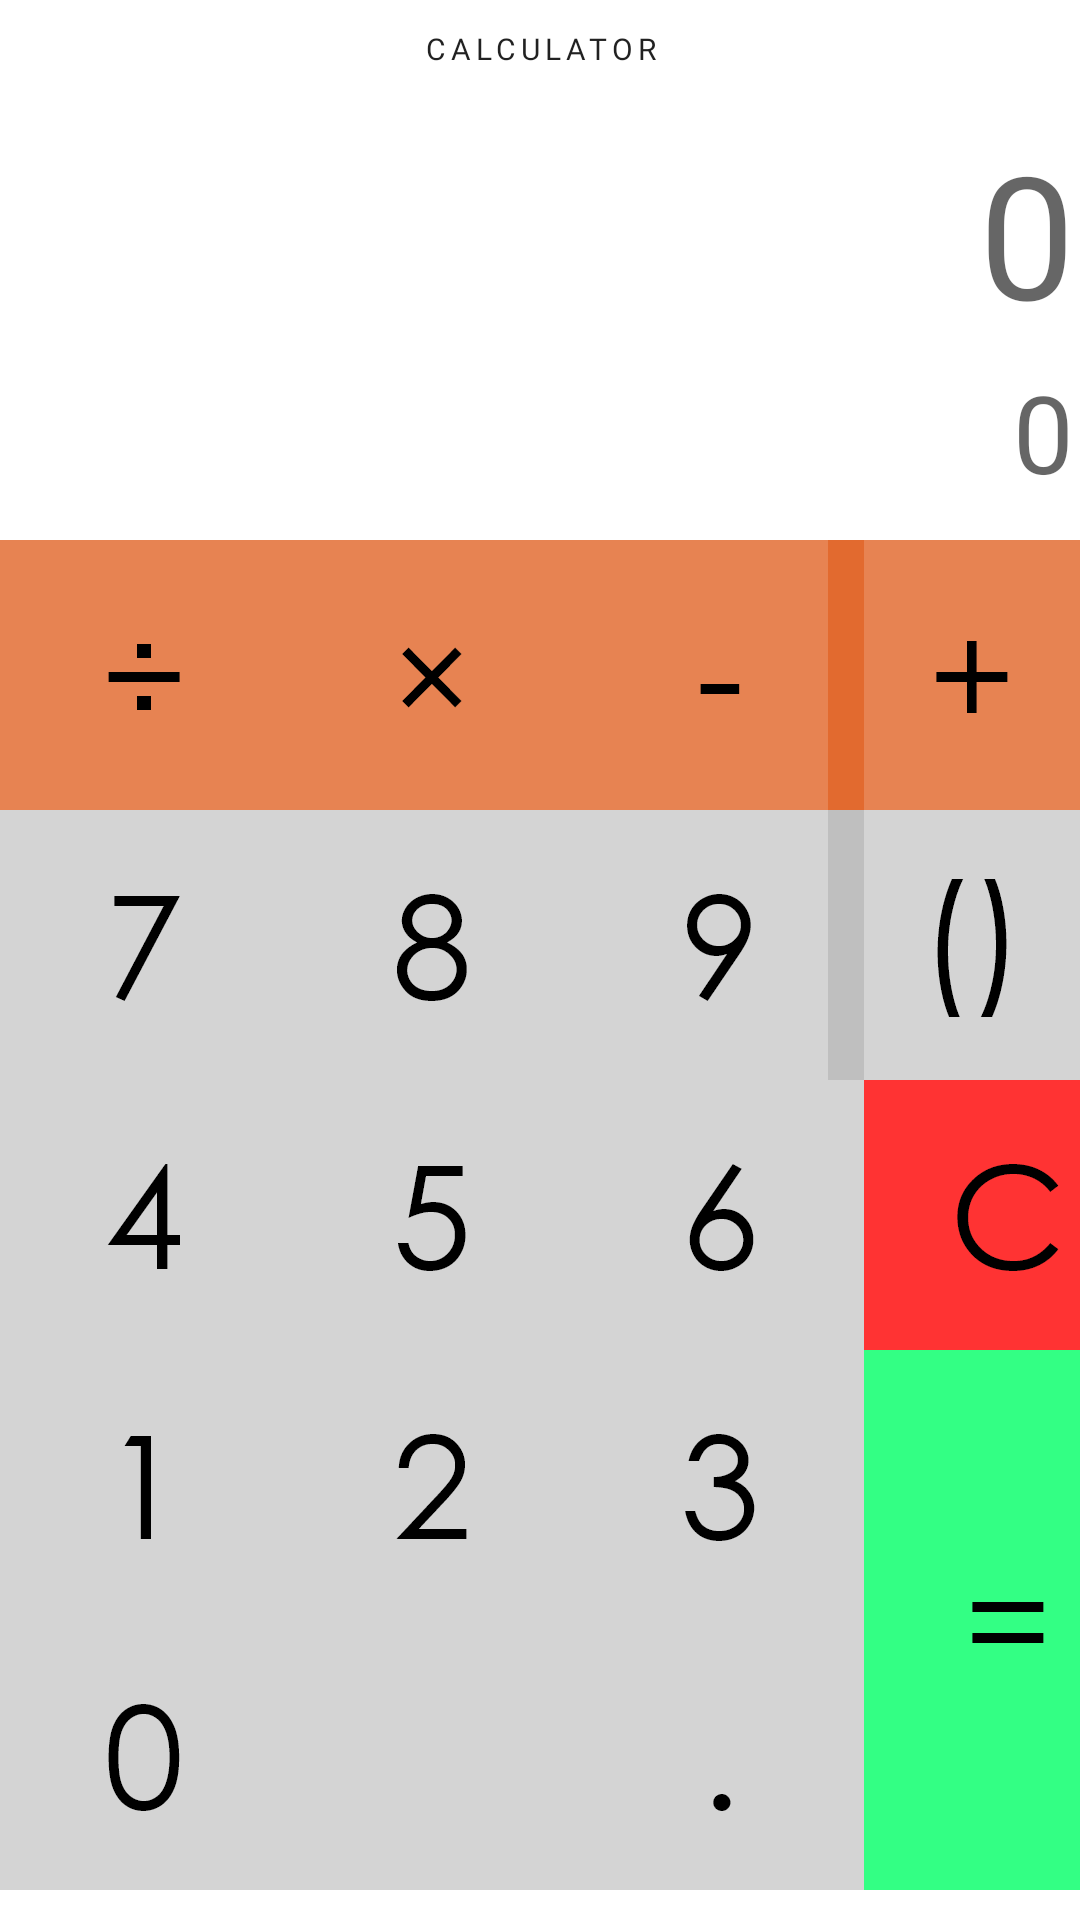

Icon bounding boxes for this 1080*1920 phone screenshot, format (x1,y1,x2,y2):
sym divide: (108,644,180,710)
sym multiply: (402,647,462,708)
